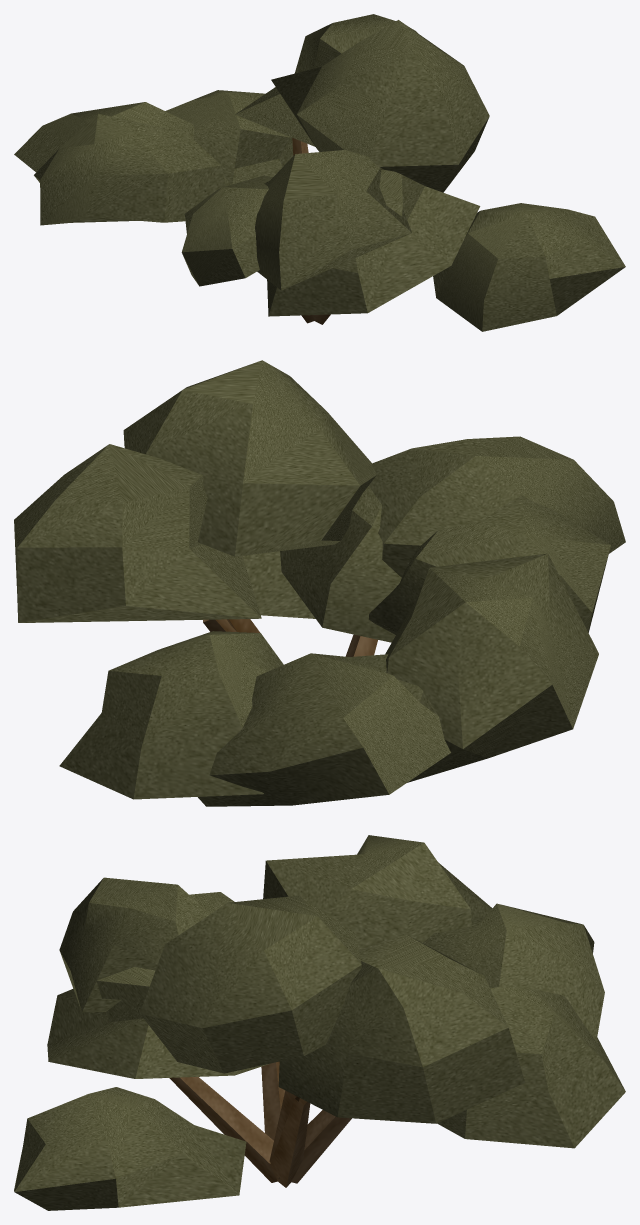
Rendered from bush_5.glb.
3 renders of one model, top to bottom at view 1: azimuth 30°, elevation 25°; view 2: azimuth 150°, elevation 25°; view 3: azimuth 270°, elevation 25°, orthographic. The views are drawn at different scales.
Parts seen in each view (by area): view 1: bush_5; view 2: bush_5; view 3: bush_5.
Boxes of the visible parts, x1=… form: bush_5: x1=14, y1=14, x2=625, y2=331; bush_5: x1=14, y1=360, x2=625, y2=806; bush_5: x1=14, y1=835, x2=625, y2=1210.
Size of the model in its own units: 2.6 by 1.52 by 2.61.
2 materials, 2 textured.
